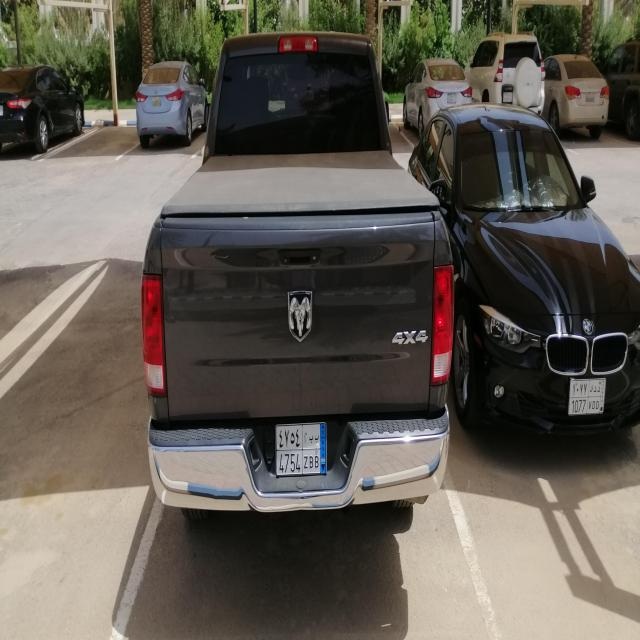license_plate: (276, 422, 326, 474), (568, 380, 606, 415), (502, 92, 512, 102), (152, 96, 161, 106), (447, 92, 456, 102), (586, 92, 594, 102), (0, 104, 3, 120)
